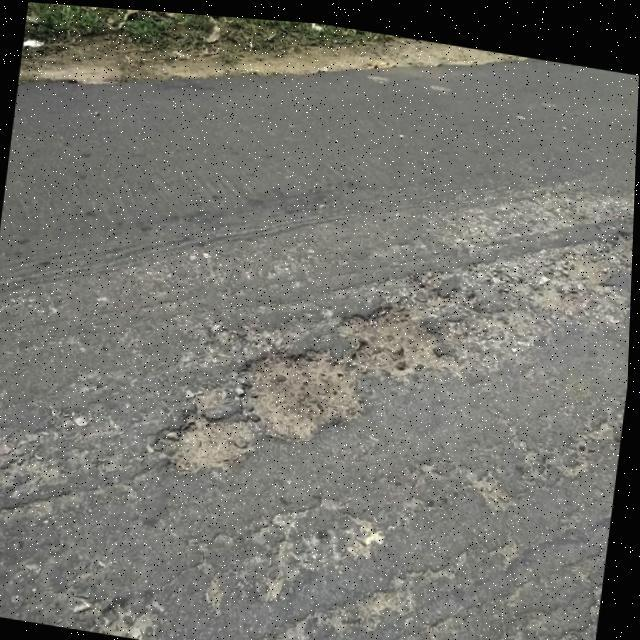pothole: (162, 325, 366, 491), (341, 262, 513, 378)
